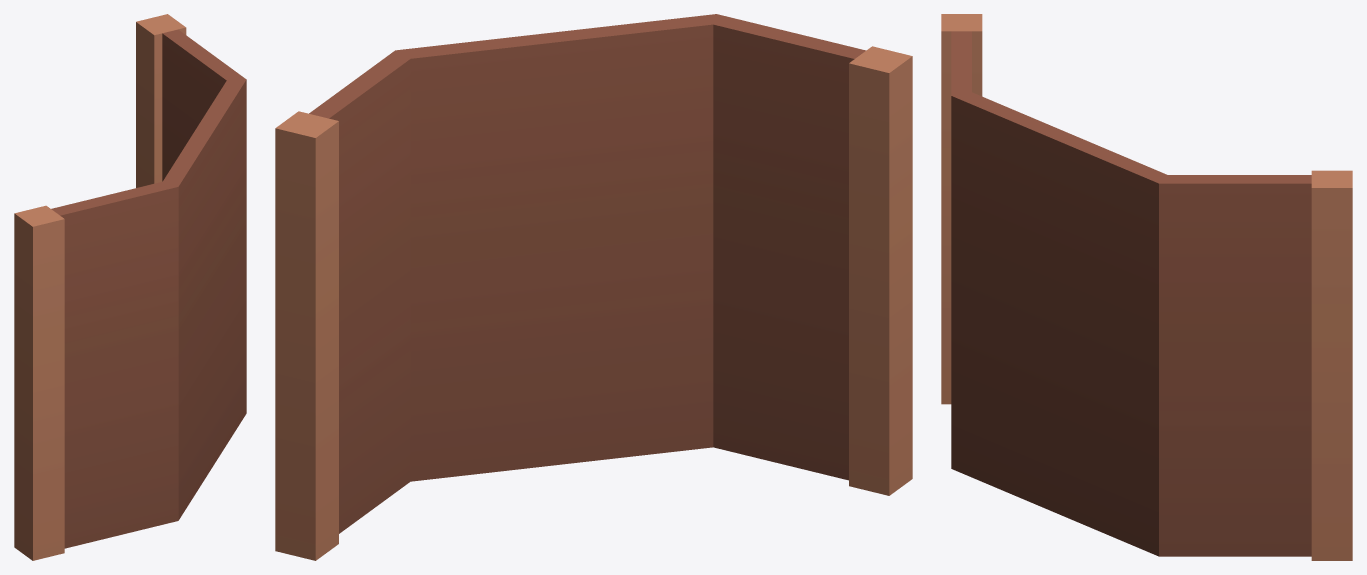
Rendered from kenney-fantasy-town-wall-wood-corner-diagonal.glb.
3 views of the same model, side by side, from view 1: azimuth 30°, elevation 25°; view 2: azimuth 150°, elevation 25°; view 3: azimuth 270°, elevation 25° (orthographic). The views are drawn at different scales.
Parts seen in each view (by area): view 1: wall-wood-corner-diagonal; view 2: wall-wood-corner-diagonal; view 3: wall-wood-corner-diagonal.
Part boxes in pixels (x1,y1,x2,y2): wall-wood-corner-diagonal: (14, 14, 246, 560); wall-wood-corner-diagonal: (275, 14, 912, 560); wall-wood-corner-diagonal: (941, 14, 1352, 560).
Size of the model in its own units: 1 by 1 by 1.
Materials: 1 (1 with a texture image).
